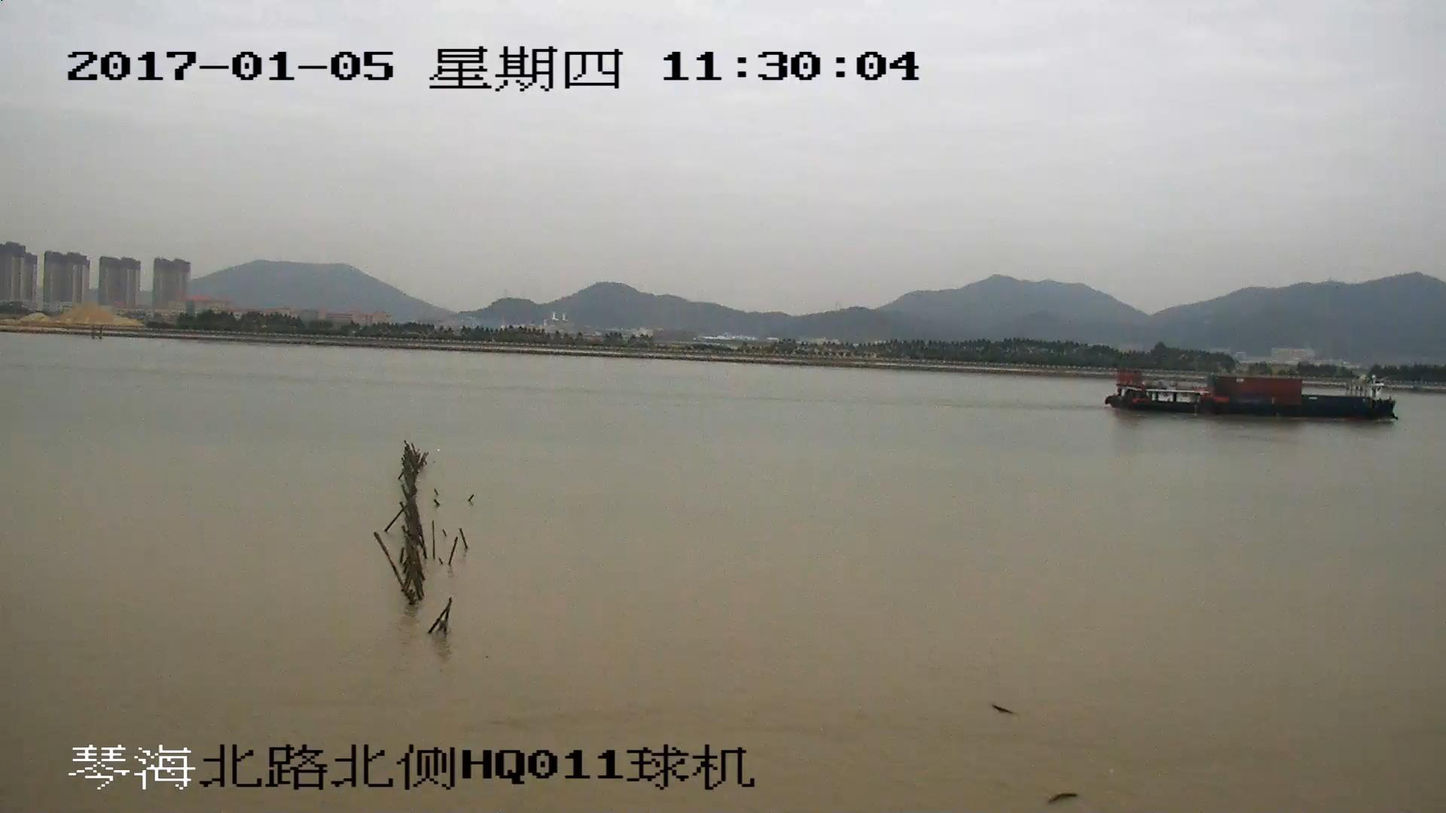container ship: (1106, 370, 1395, 419)
